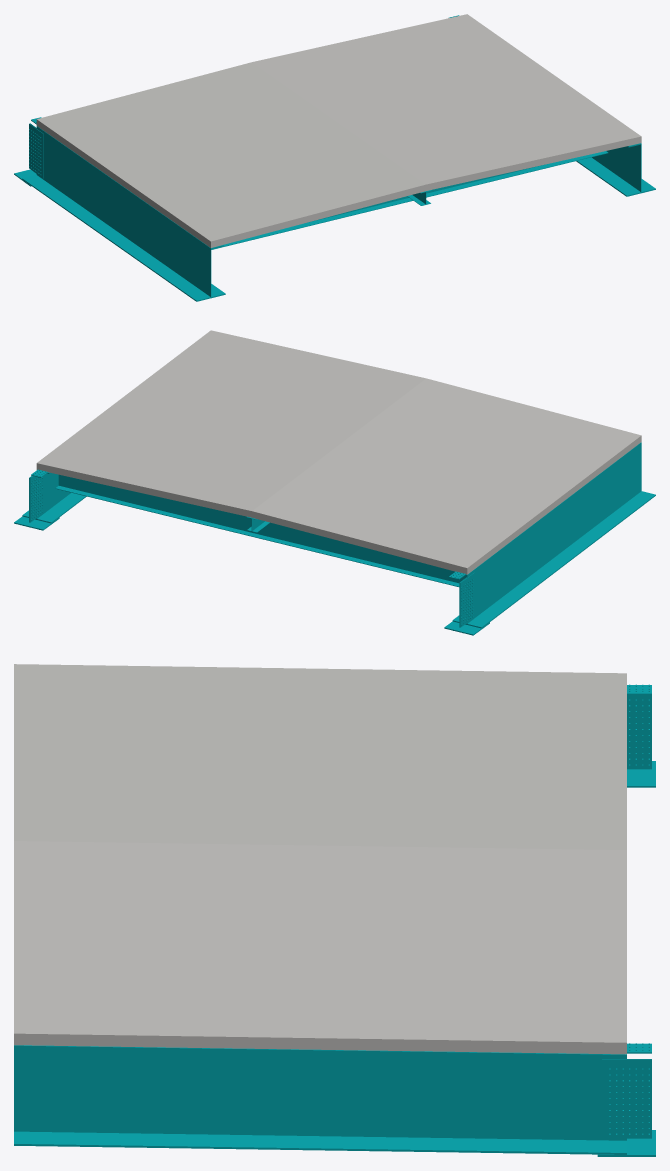
File: DECK_SS03.glb
3 renders of one model, top to bottom at view 1: azimuth 30°, elevation 25°; view 2: azimuth 150°, elevation 25°; view 3: azimuth 270°, elevation 25°, orthographic. The views are drawn at different scales.
Parts seen in each view (by area): view 1: SS03_Slab_15, SS03_G_W_0, SS03_G_E_1, SS03_FB_bf_14, SS03_SpliceW_17; view 2: SS03_Slab_15, SS03_G_W_0, SS03_FB_web_3, SS03_FB_bf_6, SS03_G_E_1, SS03_SpliceW_17, SS03_SpliceW_25; view 3: SS03_Slab_15, SS03_G_E_1, SS03_SpliceW_26, SS03_SpliceW_18.
Boxes of the visible parts, bbox=[...] form: SS03_Slab_15: bbox=[36, 14, 641, 247]; SS03_G_W_0: bbox=[22, 126, 225, 301]; SS03_G_E_1: bbox=[576, 143, 655, 196]; SS03_FB_bf_14: bbox=[211, 151, 608, 249]; SS03_SpliceW_17: bbox=[29, 123, 43, 178]; SS03_Slab_15: bbox=[36, 330, 641, 574]; SS03_G_W_0: bbox=[452, 442, 655, 628]; SS03_FB_web_3: bbox=[58, 474, 466, 583]; SS03_FB_bf_6: bbox=[55, 486, 459, 586]; SS03_G_E_1: bbox=[22, 472, 86, 523]; SS03_SpliceW_17: bbox=[460, 572, 474, 627]; SS03_SpliceW_25: bbox=[30, 475, 44, 522]; SS03_Slab_15: bbox=[14, 664, 626, 1054]; SS03_G_E_1: bbox=[14, 1045, 626, 1154]; SS03_SpliceW_26: bbox=[602, 1059, 651, 1138]; SS03_SpliceW_18: bbox=[627, 695, 651, 769].
Size of the model in its own units: 18.26 by 2.59 by 12.57.
